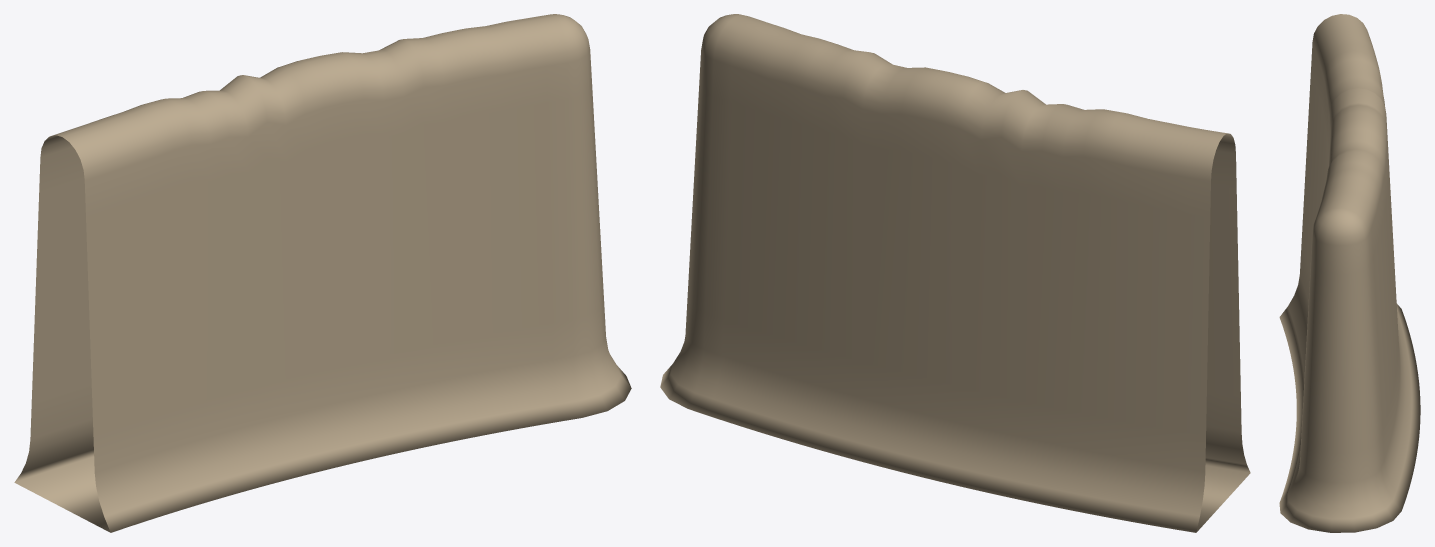
The model's file is KFB_Wall_curved_ring_r4_capA.r1.glb.
3 renders of one model, left to right at view 1: azimuth 30°, elevation 25°; view 2: azimuth 150°, elevation 25°; view 3: azimuth 270°, elevation 25°, orthographic. The views are drawn at different scales.
Parts seen in each view (by area): view 1: KFB_Wall_curved_ring_r4_capA; view 2: KFB_Wall_curved_ring_r4_capA; view 3: KFB_Wall_curved_ring_r4_capA.
Part boxes in pixels (<box>): KFB_Wall_curved_ring_r4_capA: <box>14,14,631,532</box>; KFB_Wall_curved_ring_r4_capA: <box>660,14,1250,532</box>; KFB_Wall_curved_ring_r4_capA: <box>1279,14,1420,532</box>.
Size of the model in its own units: 5.78 by 3.64 by 1.54.
